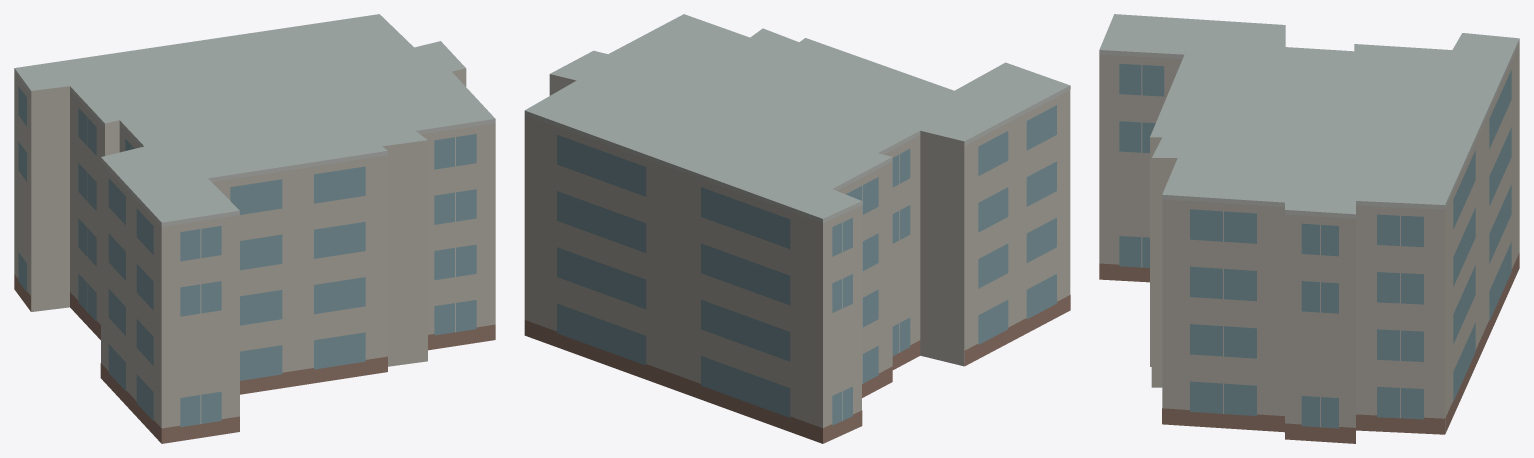
Rendered from survey-upis-32487854.glb.
The picture shows the model from 3 angles, left to right: view 1: azimuth 30°, elevation 25°; view 2: azimuth 150°, elevation 25°; view 3: azimuth 270°, elevation 25°; orthographic projection. The views are drawn at different scales.
Visible parts, largest first — view 1: survey-upis-32487854.tmp; view 2: survey-upis-32487854.tmp; view 3: survey-upis-32487854.tmp.
Boxes of the visible parts, x1,y1,x2,y2 form: survey-upis-32487854.tmp: [14, 14, 495, 443]; survey-upis-32487854.tmp: [524, 14, 1070, 443]; survey-upis-32487854.tmp: [1099, 14, 1519, 443].
Bounding box in the file's own units: 23.12 × 12.35 × 20.5.
